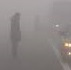person: (9, 12, 22, 58)
